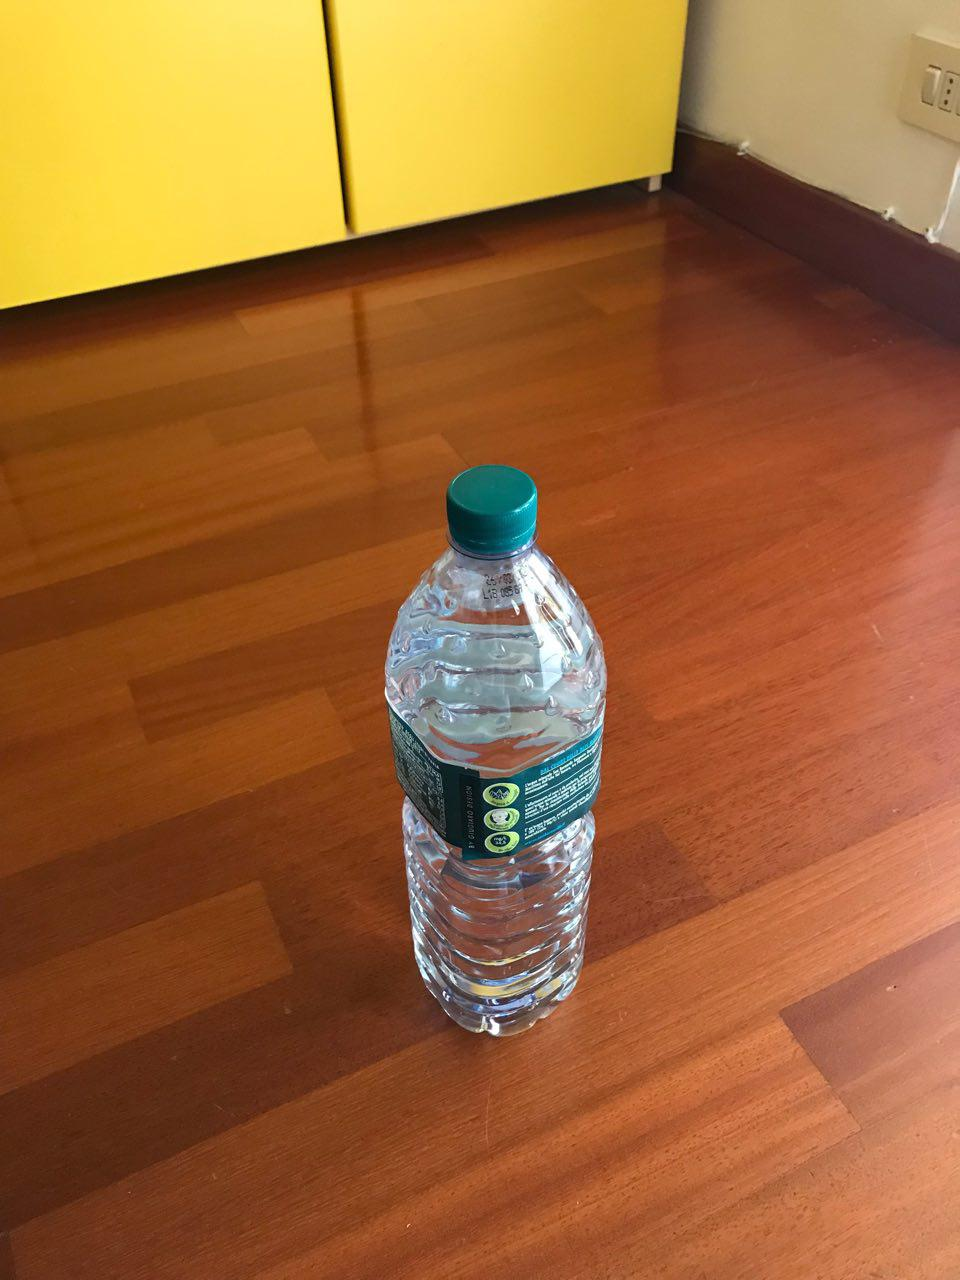san_bernardo: (381, 463, 610, 1041)
